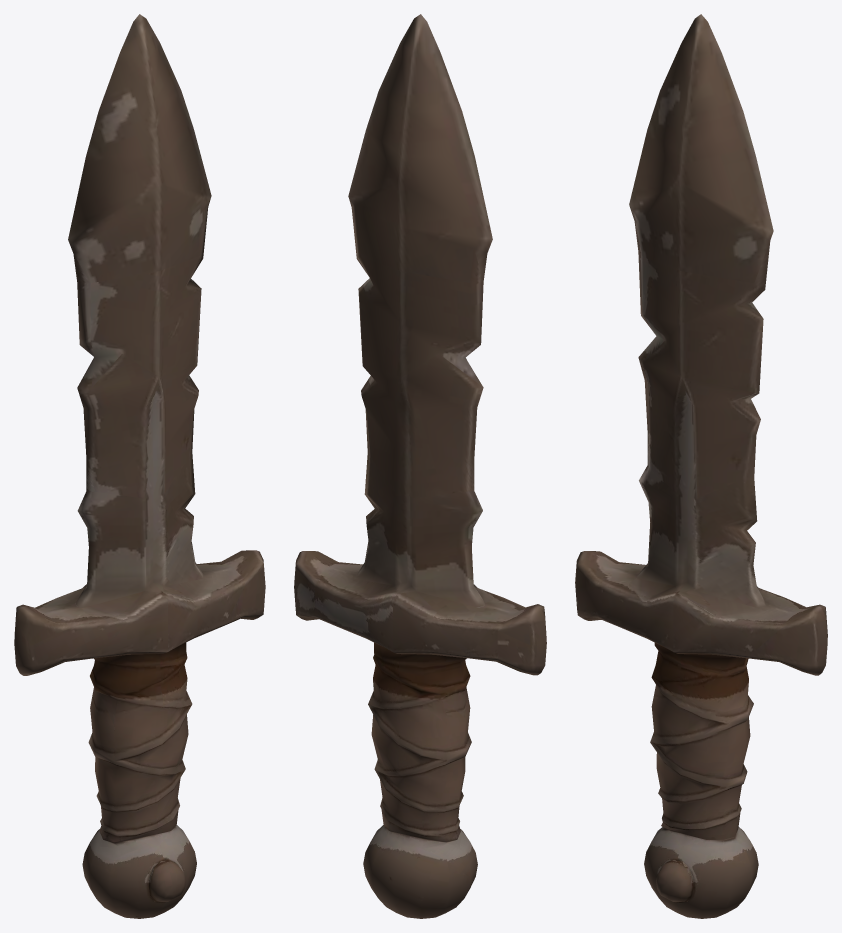
The model's file is dagger_starter.glb.
3 views of the same model, side by side, from view 1: azimuth 30°, elevation 25°; view 2: azimuth 150°, elevation 25°; view 3: azimuth 330°, elevation 25° (orthographic).
Visible parts, largest first — view 1: tripo_node_eaa65bd0-caa1-48e8-8055-d05c085c7c0a; view 2: tripo_node_eaa65bd0-caa1-48e8-8055-d05c085c7c0a; view 3: tripo_node_eaa65bd0-caa1-48e8-8055-d05c085c7c0a.
Part boxes in pixels (x1=…): tripo_node_eaa65bd0-caa1-48e8-8055-d05c085c7c0a: x1=14, y1=14, x2=265, y2=918; tripo_node_eaa65bd0-caa1-48e8-8055-d05c085c7c0a: x1=294, y1=14, x2=546, y2=918; tripo_node_eaa65bd0-caa1-48e8-8055-d05c085c7c0a: x1=575, y1=14, x2=827, y2=918.
Bounding box in the file's own units: 0.3746 × 1.28 × 0.1619.
Materials: 1 (1 with a texture image).
